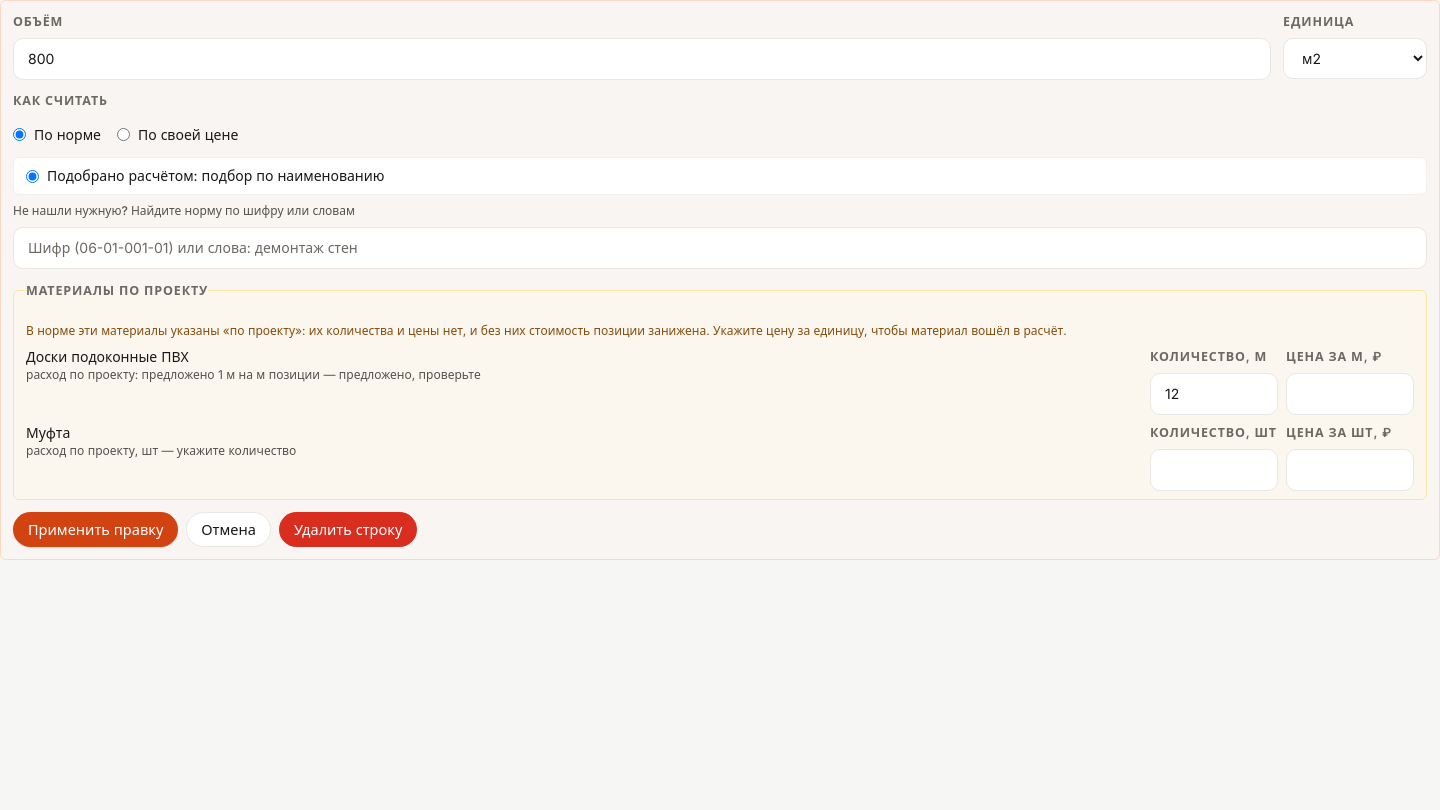
Test case: редактор строки: материалы по проекту › цена без количества — ошибка, правка не записана
Type "150" into the field named "Цена: Муфта" at point(1350, 470), box [1286,448,1414,490]
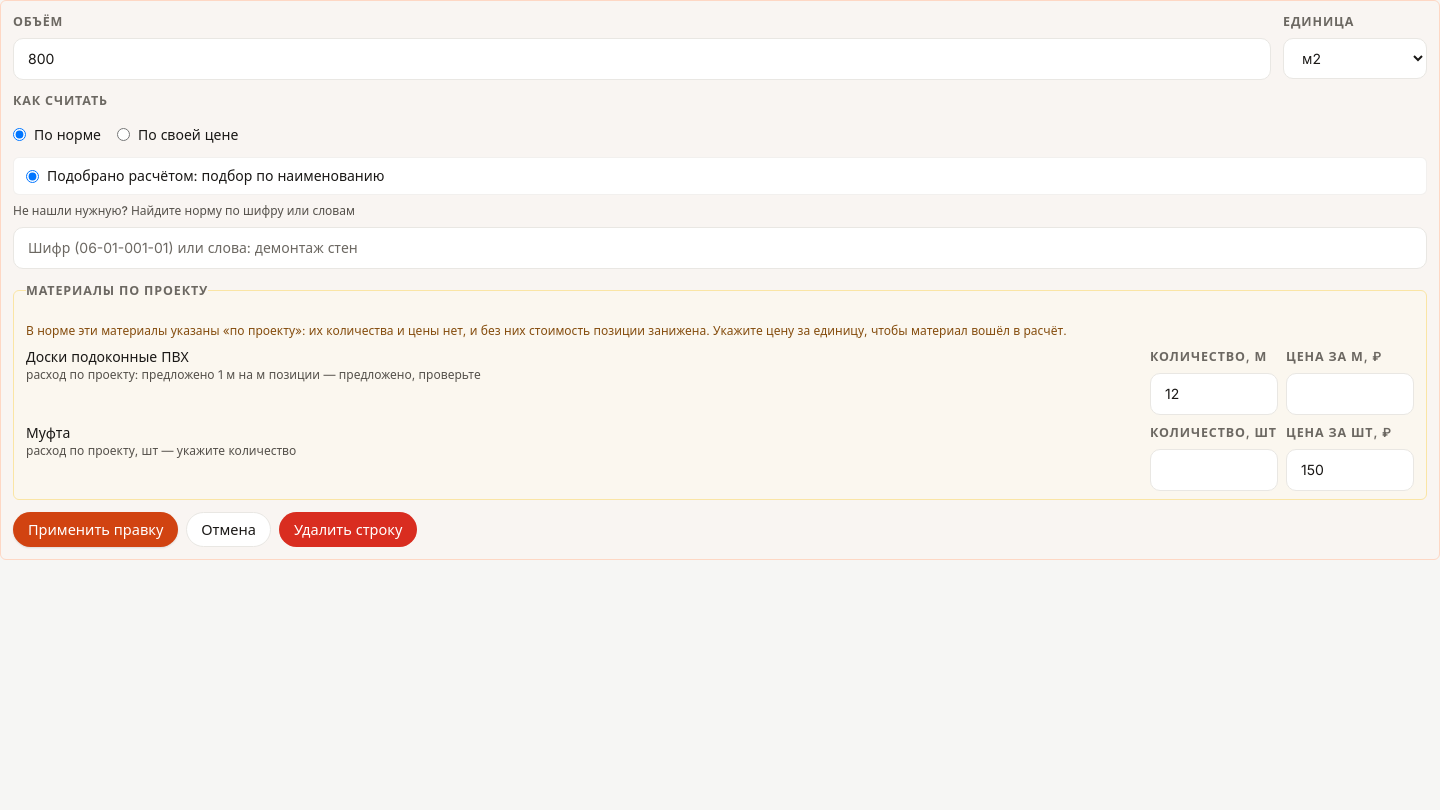
Click the button "Применить правку" at point(96, 529), box [13,512,178,547]
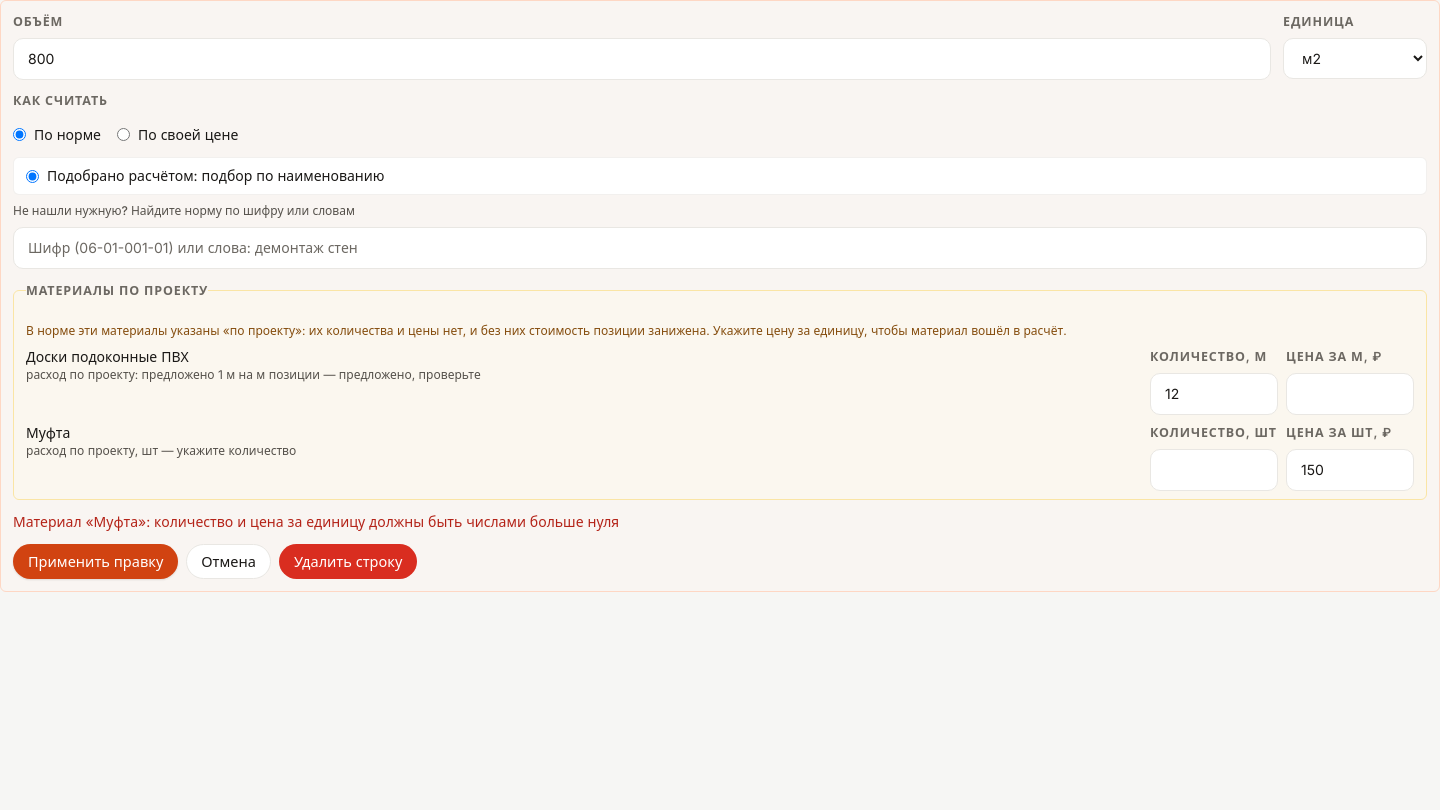
Expected: the message shows "Муфта", [13,512,619,530]
